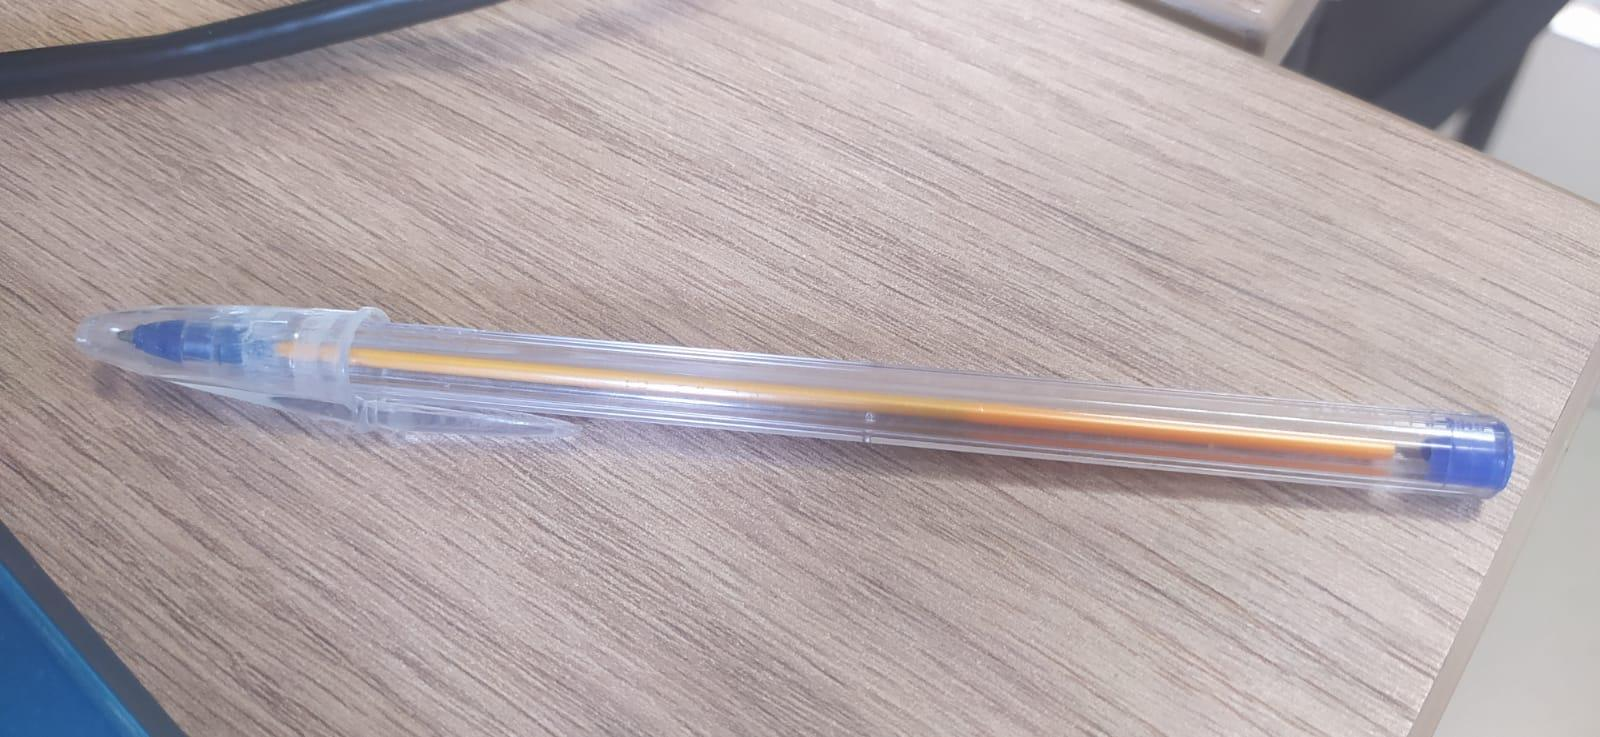pen: (80, 295, 1520, 506)
